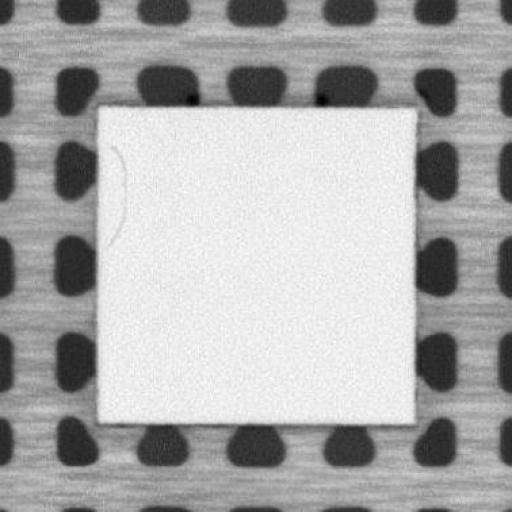DIE_CRACK: (103, 142, 127, 247)
